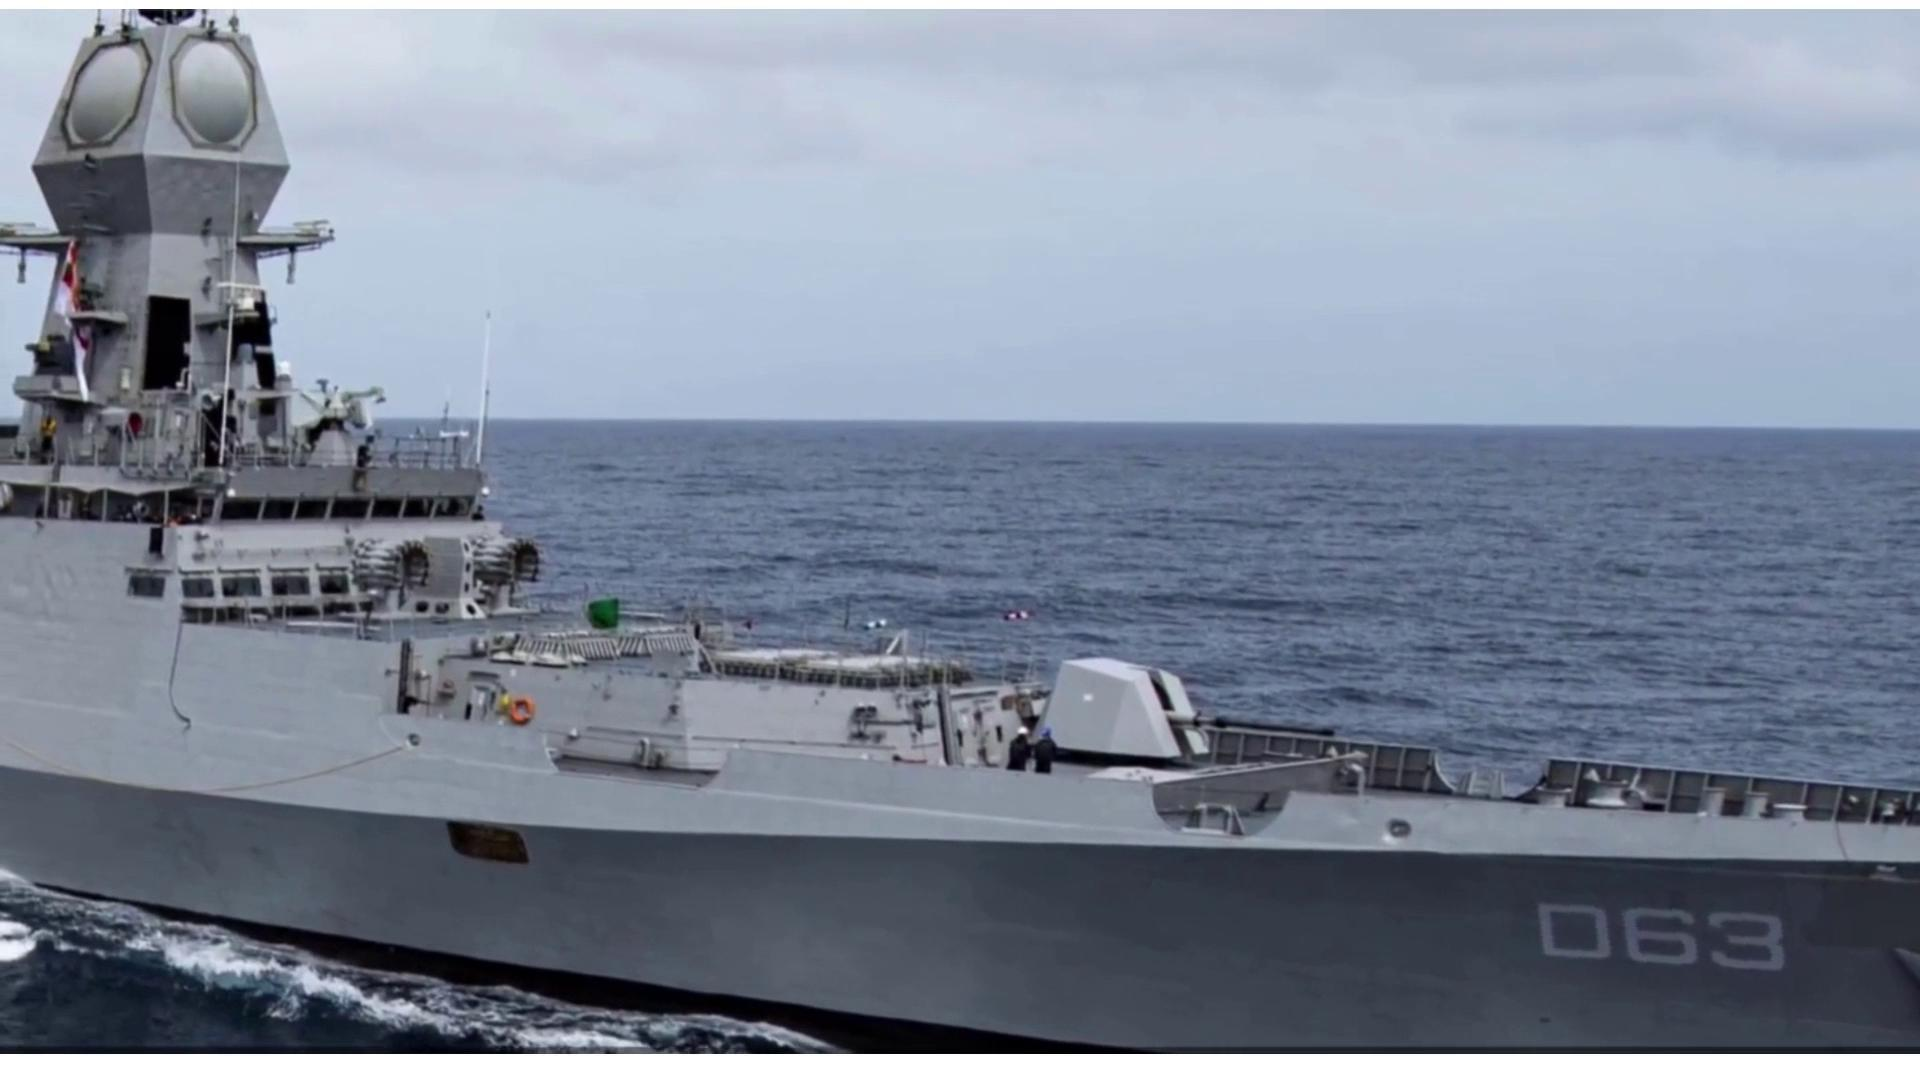OCR: (1516, 890, 1794, 1000)
